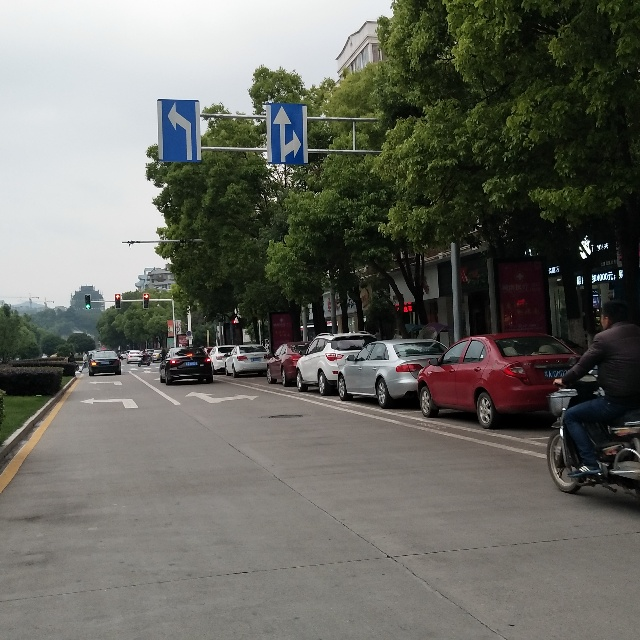left: (157, 94, 200, 163)
